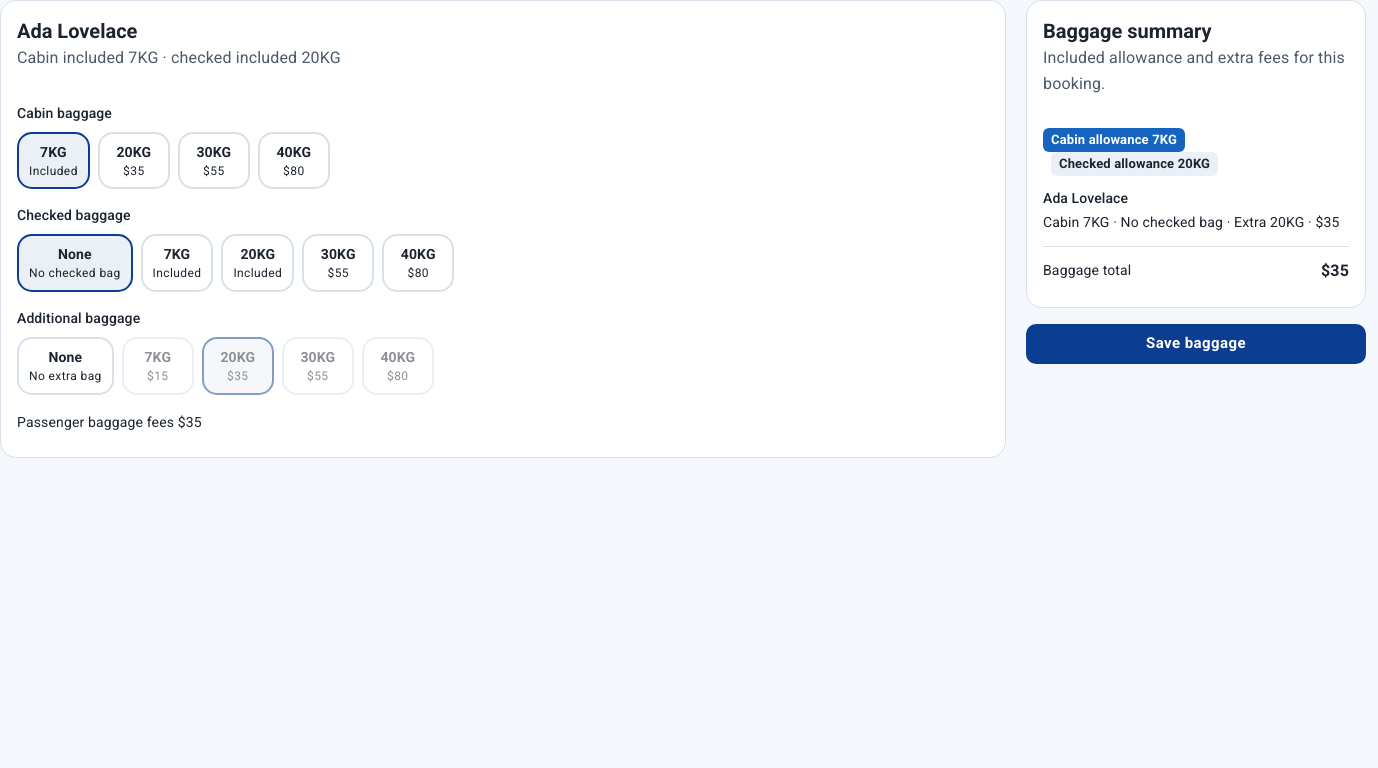
Test: BaggageSelectionPanel › shows a validation error when additional baggage is chosen without checked
Step 1. Click the button "Save baggage" → point(1196, 344), box [1026,324,1366,364]
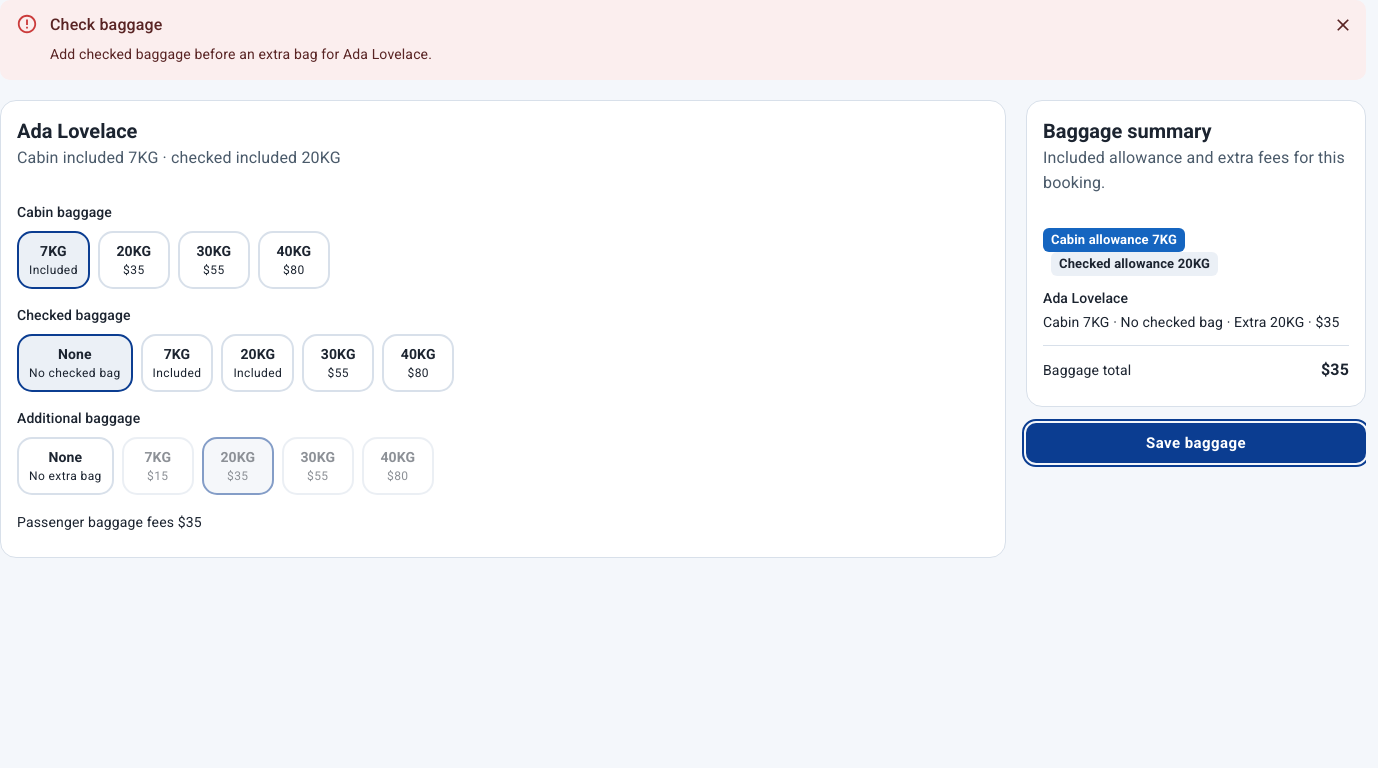
Expected: the text "Add checked baggage before an extra bag for Ada Lovelace" is shown, [50,46,432,62]
Step 2. Click the button named "Close" → point(1343, 25), box [1328,10,1358,40]
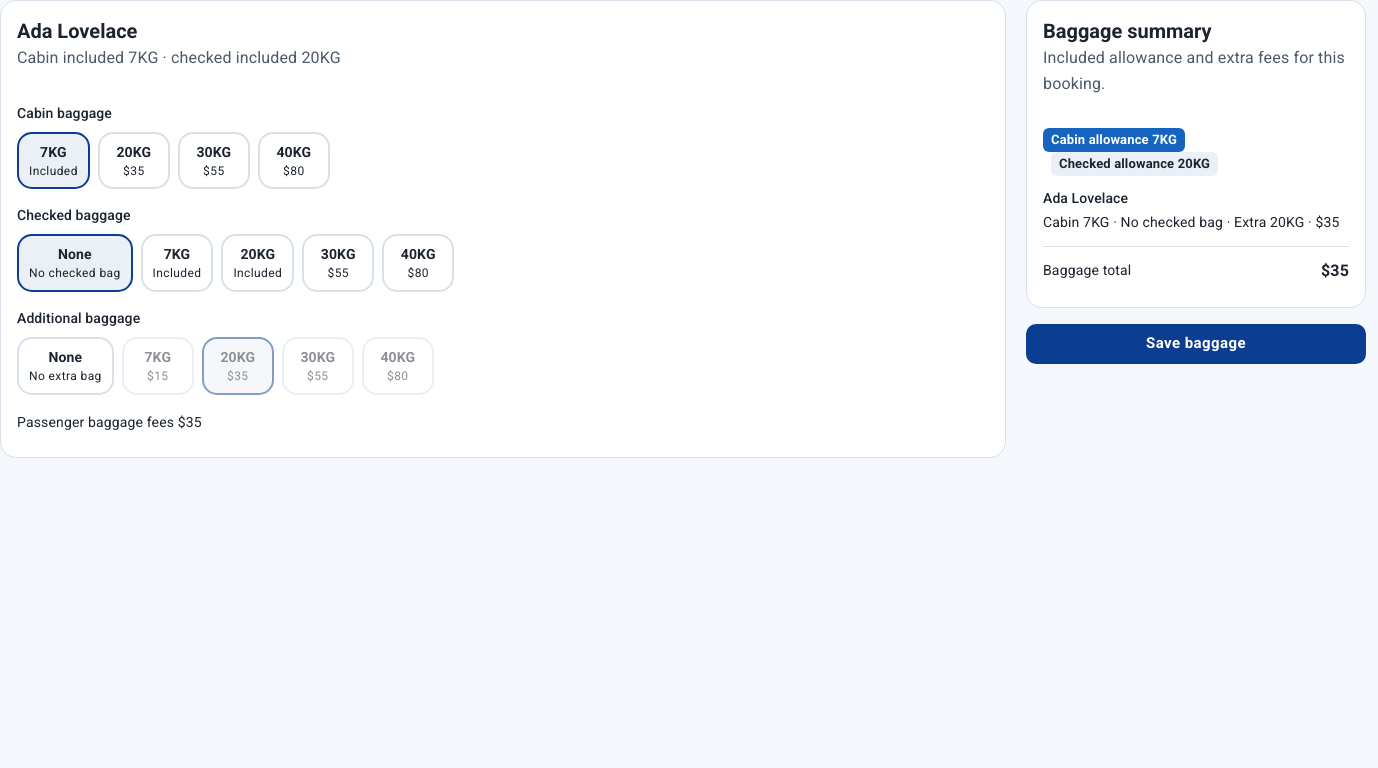
Expected: the text "Add checked baggage before an extra bag for Ada Lovelace" is gone
